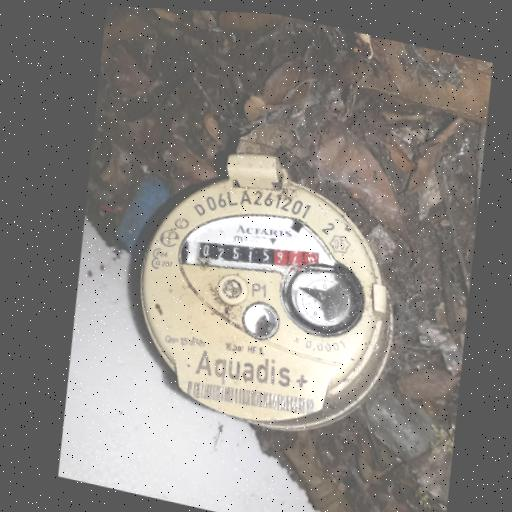0: (300, 248, 322, 269), (197, 239, 213, 259)
1: (242, 245, 258, 264)
2: (211, 242, 228, 262)
4: (285, 247, 306, 269)
5: (227, 243, 245, 264), (257, 246, 273, 267)
9: (270, 247, 290, 269)
border_water_meter_number: (190, 221, 325, 286)
